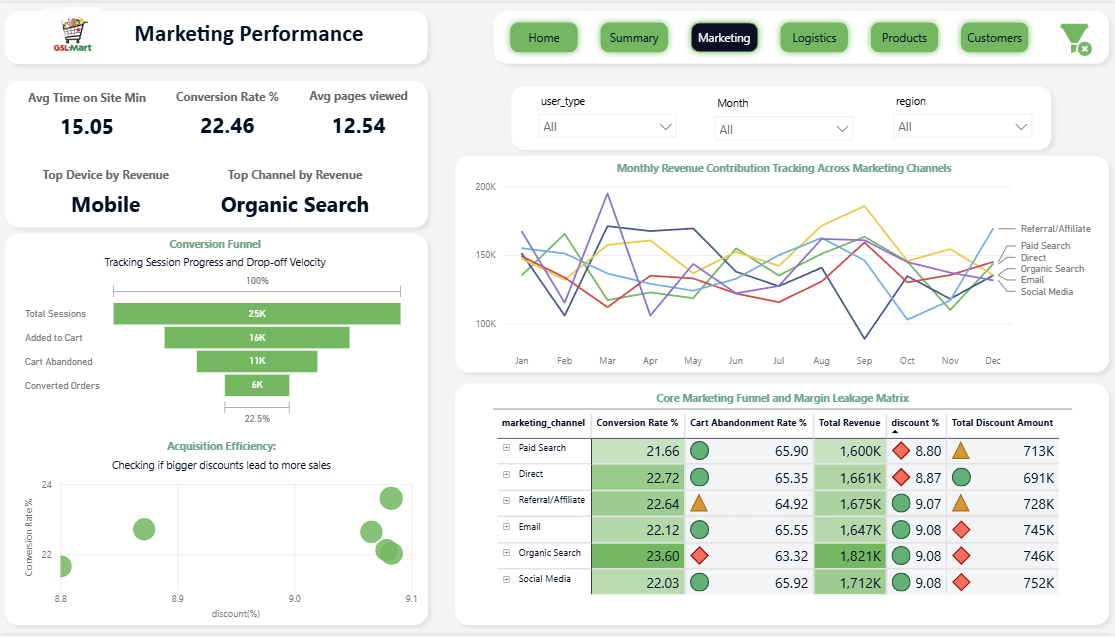

What the dashboard file says about the page in this screenshot:
{"tool":"powerbi","page":{"name":"Marketing","canvas":[1280,720],"ordinal":2},"visuals":[{"type":"shape","box":[514.3,425.7,765.7,294.3],"z":0},{"type":"shape","box":[0,254.3,501.4,465.7],"z":1000},{"type":"shape","box":[578.6,85.7,635.7,91.4],"z":2000},{"type":"shape","box":[514.3,165.7,765.7,265.7],"z":3000},{"type":"shape","box":[0,80,501.4,185.7],"z":4000},{"type":"shape","box":[0,0,501.2,78.8],"z":5000},{"type":"cardVisual","title":"Gross Revenue","fields":{"Data":["Min(Fact_Sales.marketing_channel)"]},"box":[210,165.7,261.4,101.4],"z":6000},{"type":"shape","box":[558.5,0,721.5,78.4],"z":7000},{"type":"cardVisual","fields":{"Data":["Funnel & Conversion Measures.Avg Time on Site Min"]},"box":[14.7,81,177.9,92],"z":8000},{"type":"cardVisual","fields":{"Data":["Funnel & Conversion Measures.Conversion Rate %"]},"box":[174.3,72.9,178.6,107.1],"z":9000},{"type":"cardVisual","fields":{"Data":["Funnel & Conversion Measures.Avg pages viewd"]},"box":[325.7,80,175.7,91.4],"z":10000},{"type":"cardVisual","fields":{"Data":["Min(Fact_Sales.device_type)"]},"box":[14.3,167.1,220,98.6],"z":11000},{"type":"lineChart","title":"Monthly Revenue Contribution Tracking Across Marketing Channels","fields":{"Category":["Dim_Calendar.MonthName"],"Y":["Base measures.Gross Revenue"],"Series":["Fact_Sales.marketing_channel"]},"box":[541.4,180,715.7,245.7],"z":12000},{"type":"slicer","fields":{"Values":["Dim_Customers.user_type"]},"box":[608.3,98.3,177.9,70.9],"z":13000},{"type":"slicer","fields":{"Values":["Dim_Calendar.Date.Variation.Date Hierarchy.Month"]},"box":[810,101.4,178.6,70],"z":14000},{"type":"slicer","fields":{"Values":["Dim_Geography.region"]},"box":[1014.3,98.6,178.6,70],"z":15000},{"type":"funnel","title":"Conversion Funnel","fields":{"Category":["Funnel Stages.Stage"],"Y":["Funnel Stages.Funnel Value"]},"box":[27.1,267.1,444.3,220],"z":16000},{"type":"pivotTable","title":"Core Marketing Funnel and Margin Leakage Matrix","fields":{"Rows":["Fact_Sales.marketing_channel","Fact_Sales.device_type"],"Values":["Funnel & Conversion Measures.Conversion Rate %","Funnel & Conversion Measures.Cart Abandonment Rate %","Base measures.Gross Revenue","Avg(Fact_Sales.discount_percent)","Base measures.Total Discounts"]},"box":[567.5,442.5,661.2,260],"z":17000},{"type":"scatterChart","title":"Acquisition Efficiency:","fields":{"X":["Avg(Fact_Sales.discount_percent)"],"Y":["Funnel & Conversion Measures.Conversion Rate %"],"Category":["Fact_Sales.marketing_channel"],"Size":["CountNonNull(Fact_delivery.session_id)"]},"box":[27.1,498.6,458.6,210],"z":18000},{"type":"textbox","box":[135,12.5,305,48.8],"z":19000},{"type":"pageNavigator","box":[579.1,14.7,609.8,50.3],"z":20000},{"type":"image","box":[1198,16,66,50],"z":21000},{"type":"image","box":[0,0,173.8,72.5],"z":22000}]}

Visuals, with their boxes in screenshot pixels (x1, y1, x2, y2), scaled from the page's 1280x720 canvas onto the 1115x637 screenshot:
shape: (448,377,1114,636)
shape: (0,225,437,636)
shape: (504,76,1058,157)
shape: (448,147,1114,382)
shape: (0,71,437,235)
shape: (0,0,437,70)
"Gross Revenue" cardVisual: (183,147,411,236)
shape: (487,0,1114,69)
cardVisual - Funnel & Conversion Measures.Avg Time on Site Min: (13,72,168,153)
cardVisual - Funnel & Conversion Measures.Conversion Rate %: (152,64,307,159)
cardVisual - Funnel & Conversion Measures.Avg pages viewd: (284,71,437,152)
cardVisual - Min(Fact_Sales.device_type): (12,148,204,235)
"Monthly Revenue Contribution Tracking Across Marketing Channels" lineChart: (472,159,1095,377)
slicer - Dim_Customers.user_type: (530,87,685,150)
slicer - Dim_Calendar.Date.Variation.Date Hierarchy.Month: (706,90,861,152)
slicer - Dim_Geography.region: (884,87,1039,149)
"Conversion Funnel" funnel: (24,236,411,431)
"Core Marketing Funnel and Margin Leakage Matrix" pivotTable: (494,391,1070,622)
"Acquisition Efficiency:" scatterChart: (24,441,423,627)
textbox: (118,11,383,54)
pageNavigator: (504,13,1036,58)
image: (1044,14,1101,58)
image: (0,0,151,64)
